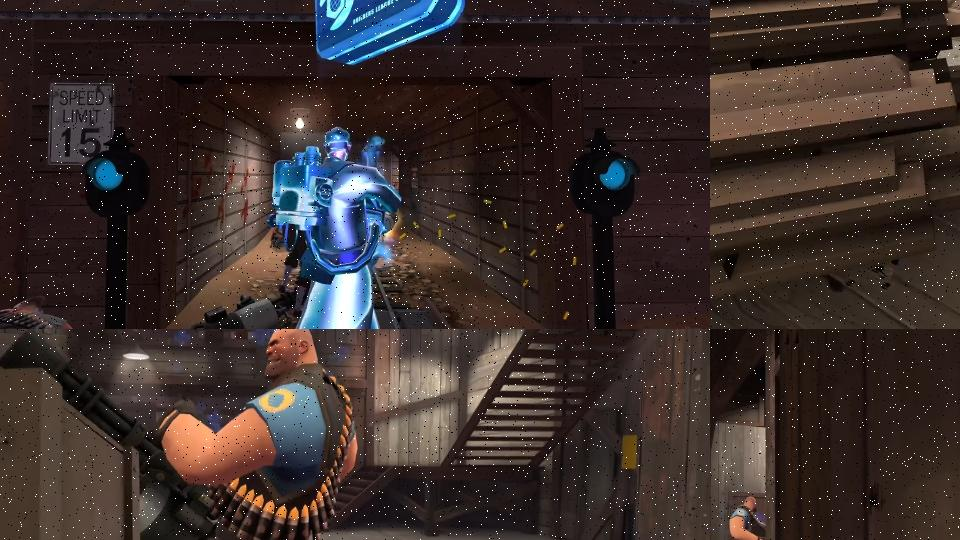Enemy: (0, 329, 365, 540), (264, 122, 406, 329), (728, 495, 767, 540)
